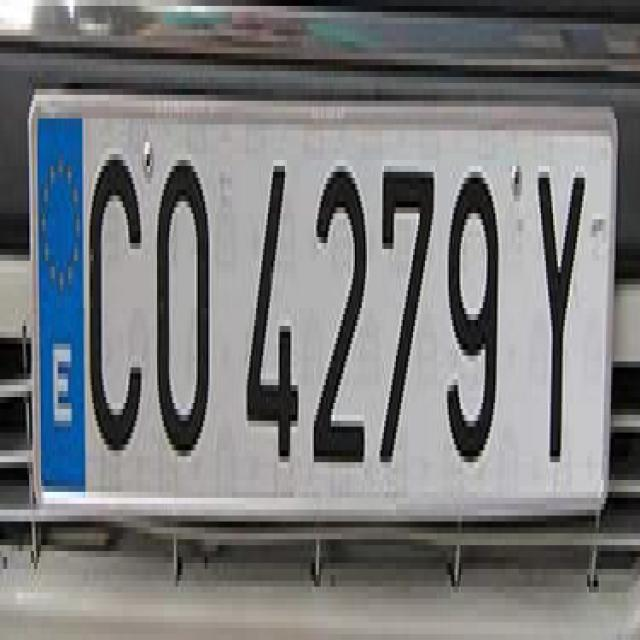EU: (31, 99, 610, 538)
Espagne: (34, 111, 87, 502)
